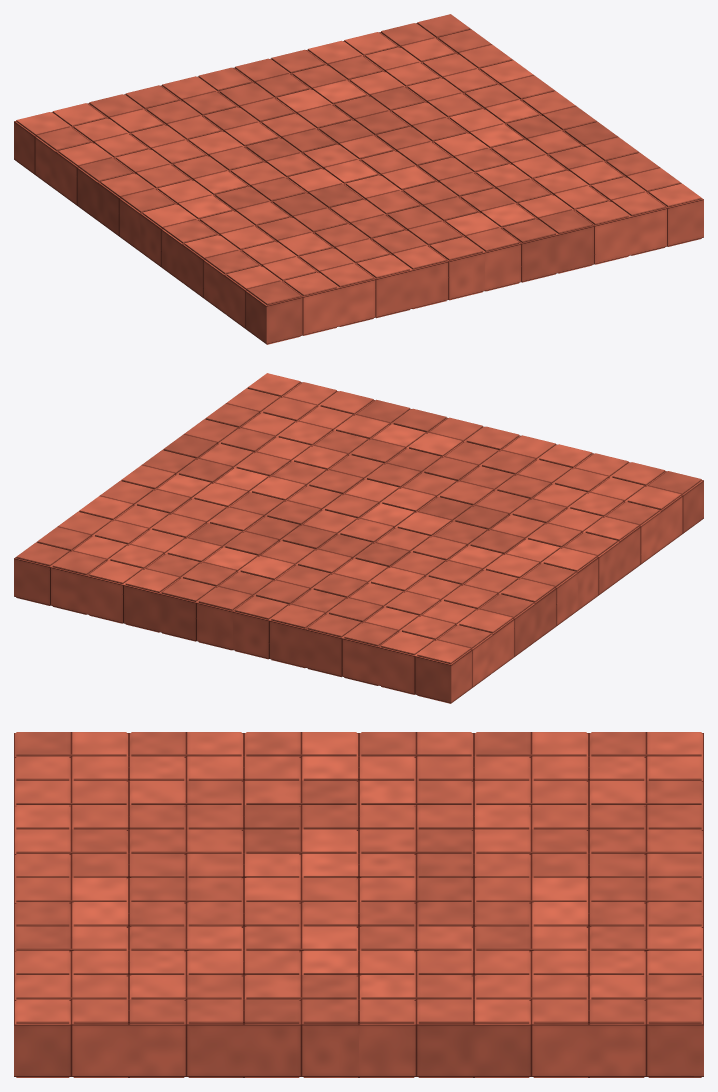
The model's file is Kit_Brick_Floor.fbx.
The picture shows the model from 3 angles, top to bottom: view 1: azimuth 30°, elevation 25°; view 2: azimuth 150°, elevation 25°; view 3: azimuth 270°, elevation 25°; orthographic projection. The views are drawn at different scales.
Parts seen in each view (by area): view 1: Kit_Brick_Floor_LOD0; view 2: Kit_Brick_Floor_LOD0; view 3: Kit_Brick_Floor_LOD0.
Boxes of the visible parts, x1,y1,x2,y2 form: Kit_Brick_Floor_LOD0: (14,14,703,344); Kit_Brick_Floor_LOD0: (14,373,703,703); Kit_Brick_Floor_LOD0: (14,732,703,1077).
Size of what is drawn, in the model's own units: 3 by 0.27 by 3.
